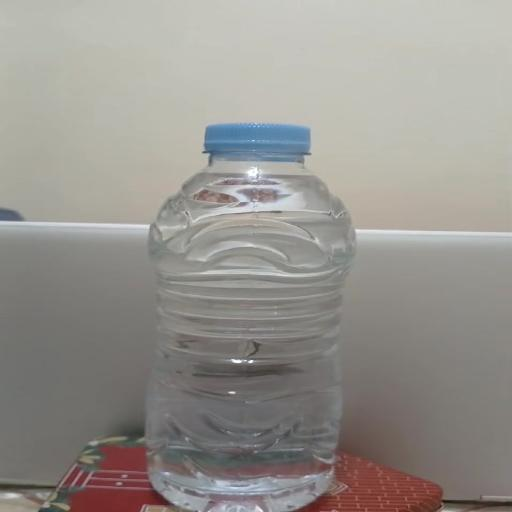bouteille non conformite: (107, 122, 487, 498), (50, 226, 441, 421)
